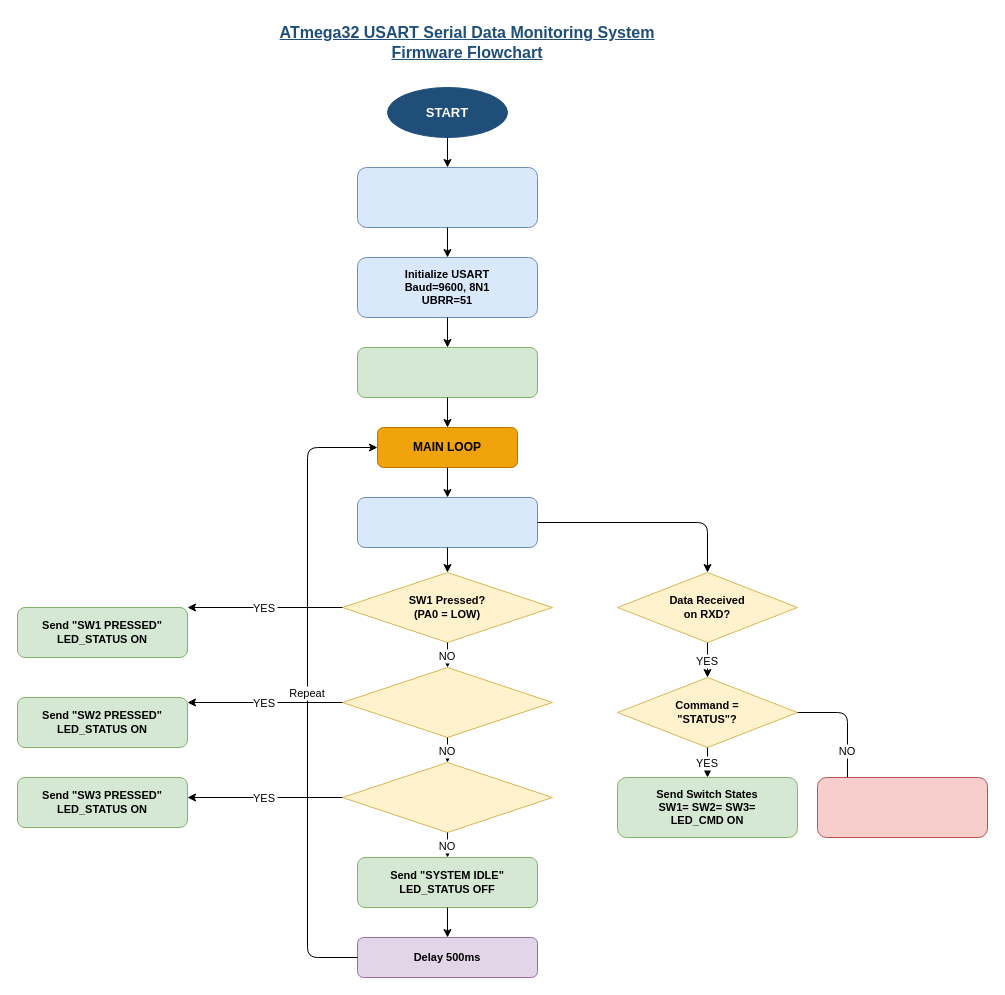
Image size: 1005x995. Some labels were removed from this diagram. Each missing label, with the box of its shape:
Initialize GPIO PA0-PA2 = INPUT PB1-PB2 = OUTPUT: (356, 166, 538, 228)
Read PA0, PA1, PA2 (Switch States): (356, 496, 538, 548)
Send "ERROR: Unknown Command" LED_CMD OFF: (816, 776, 988, 838)
Send "System Ready" to Terminal: (356, 346, 538, 398)
SW2 Pressed? (PA1 = LOW): (342, 666, 552, 738)
SW3 Pressed? (PA2 = LOW): (342, 762, 552, 832)
